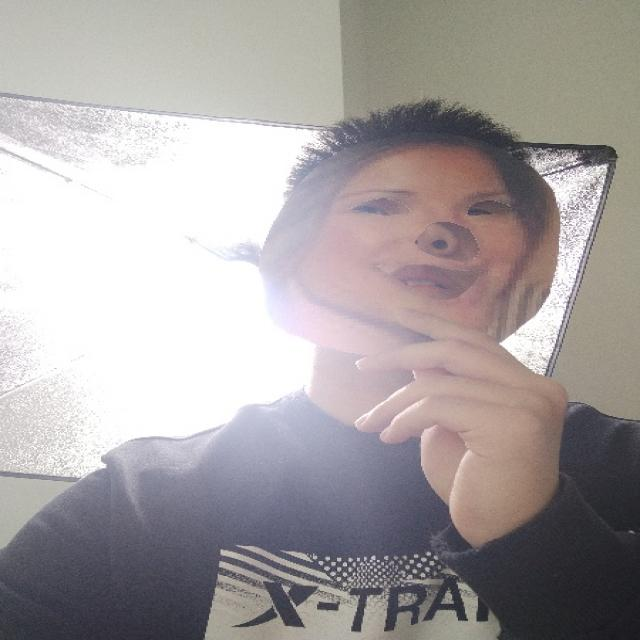mask: (260, 132, 563, 351)
